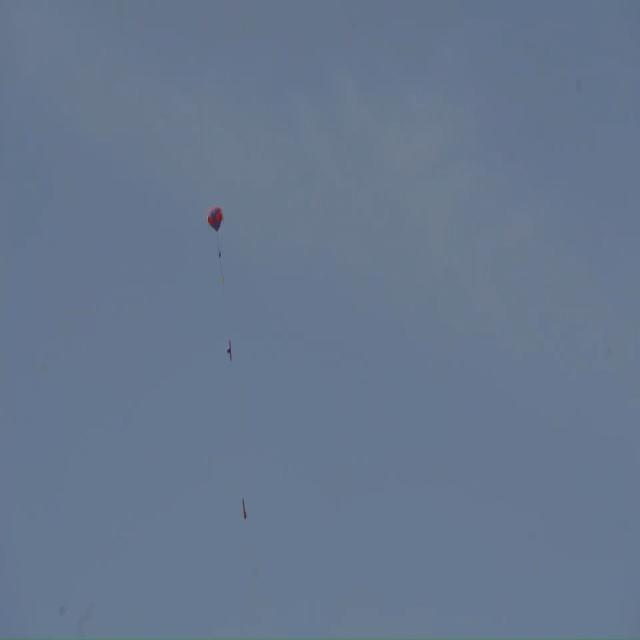Rocket: (243, 498, 247, 520)
